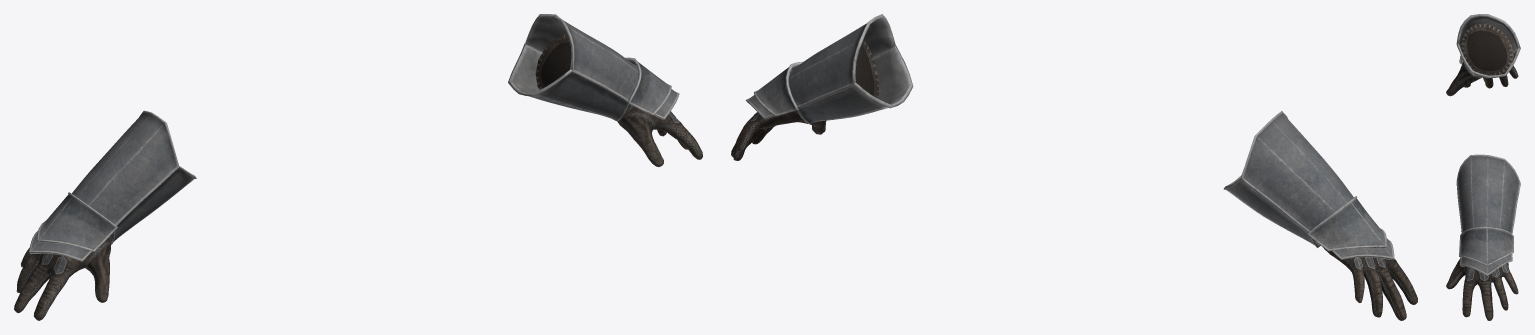
File: sk_dwarf_erebor_bracers_heavy_d.fbx
3 views of the same model, side by side, from view 1: azimuth 30°, elevation 25°; view 2: azimuth 150°, elevation 25°; view 3: azimuth 270°, elevation 25° (orthographic). The views are drawn at different scales.
Parts seen in each view (by area): view 1: sk_dwarf_erebor_bracers_heavy_d.0, sk_dwarf_erebor_bracers_heavy_d.1; view 2: sk_dwarf_erebor_bracers_heavy_d.0, sk_dwarf_erebor_bracers_heavy_d.1; view 3: sk_dwarf_erebor_bracers_heavy_d.0, sk_dwarf_erebor_bracers_heavy_d.1.
Part boxes in pixels (bbox=[...]): sk_dwarf_erebor_bracers_heavy_d.0: bbox=[28, 14, 679, 261]; sk_dwarf_erebor_bracers_heavy_d.1: bbox=[14, 34, 702, 320]; sk_dwarf_erebor_bracers_heavy_d.0: bbox=[745, 14, 1394, 260]; sk_dwarf_erebor_bracers_heavy_d.1: bbox=[731, 40, 1417, 320]; sk_dwarf_erebor_bracers_heavy_d.0: bbox=[1456, 14, 1520, 276]; sk_dwarf_erebor_bracers_heavy_d.1: bbox=[1446, 24, 1518, 320].
Size of the model in its own units: 1.43 by 0.1917 by 0.3406.
Materials: 2 (2 with a texture image).
